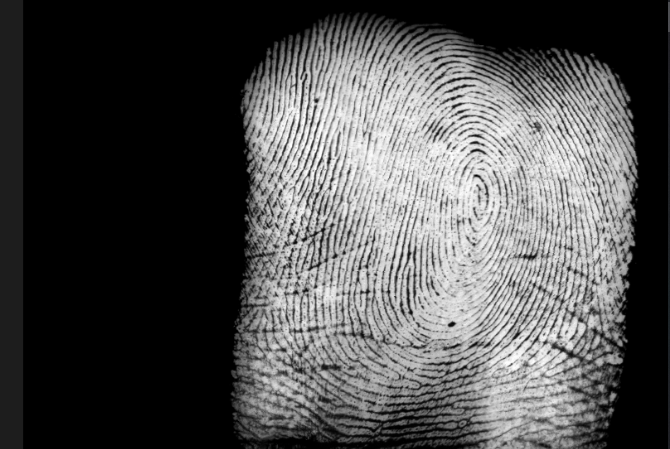nucelo: (465, 174, 487, 225)
verticilo: (246, 335, 272, 368), (586, 326, 611, 355)
